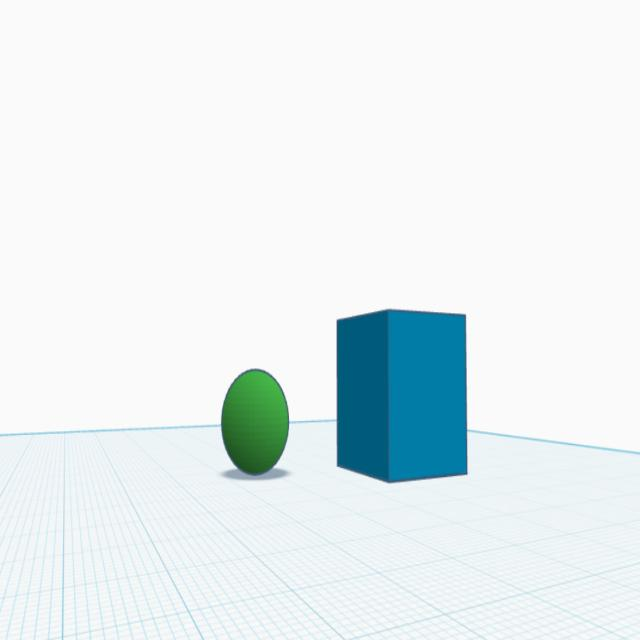cube: (333, 303, 470, 492)
sphere: (218, 365, 290, 479)
